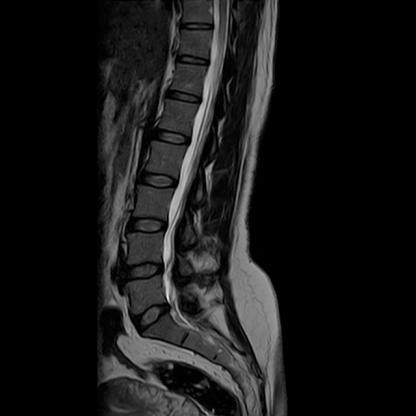Disc Bulgerotation: (133, 303, 174, 327), (123, 261, 165, 284)
